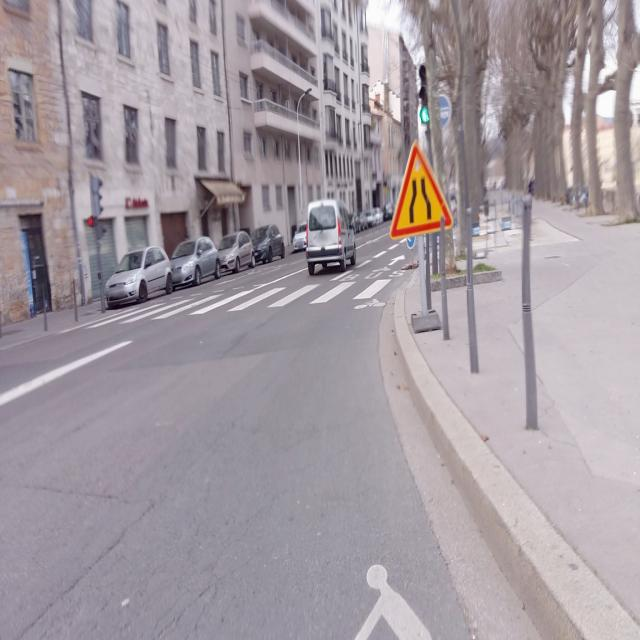car: (104, 244, 174, 308), (306, 198, 356, 274), (170, 235, 220, 288), (217, 229, 254, 273), (251, 224, 286, 264), (292, 222, 308, 252), (364, 209, 376, 227), (383, 202, 394, 221), (350, 213, 360, 232), (372, 207, 383, 224)
